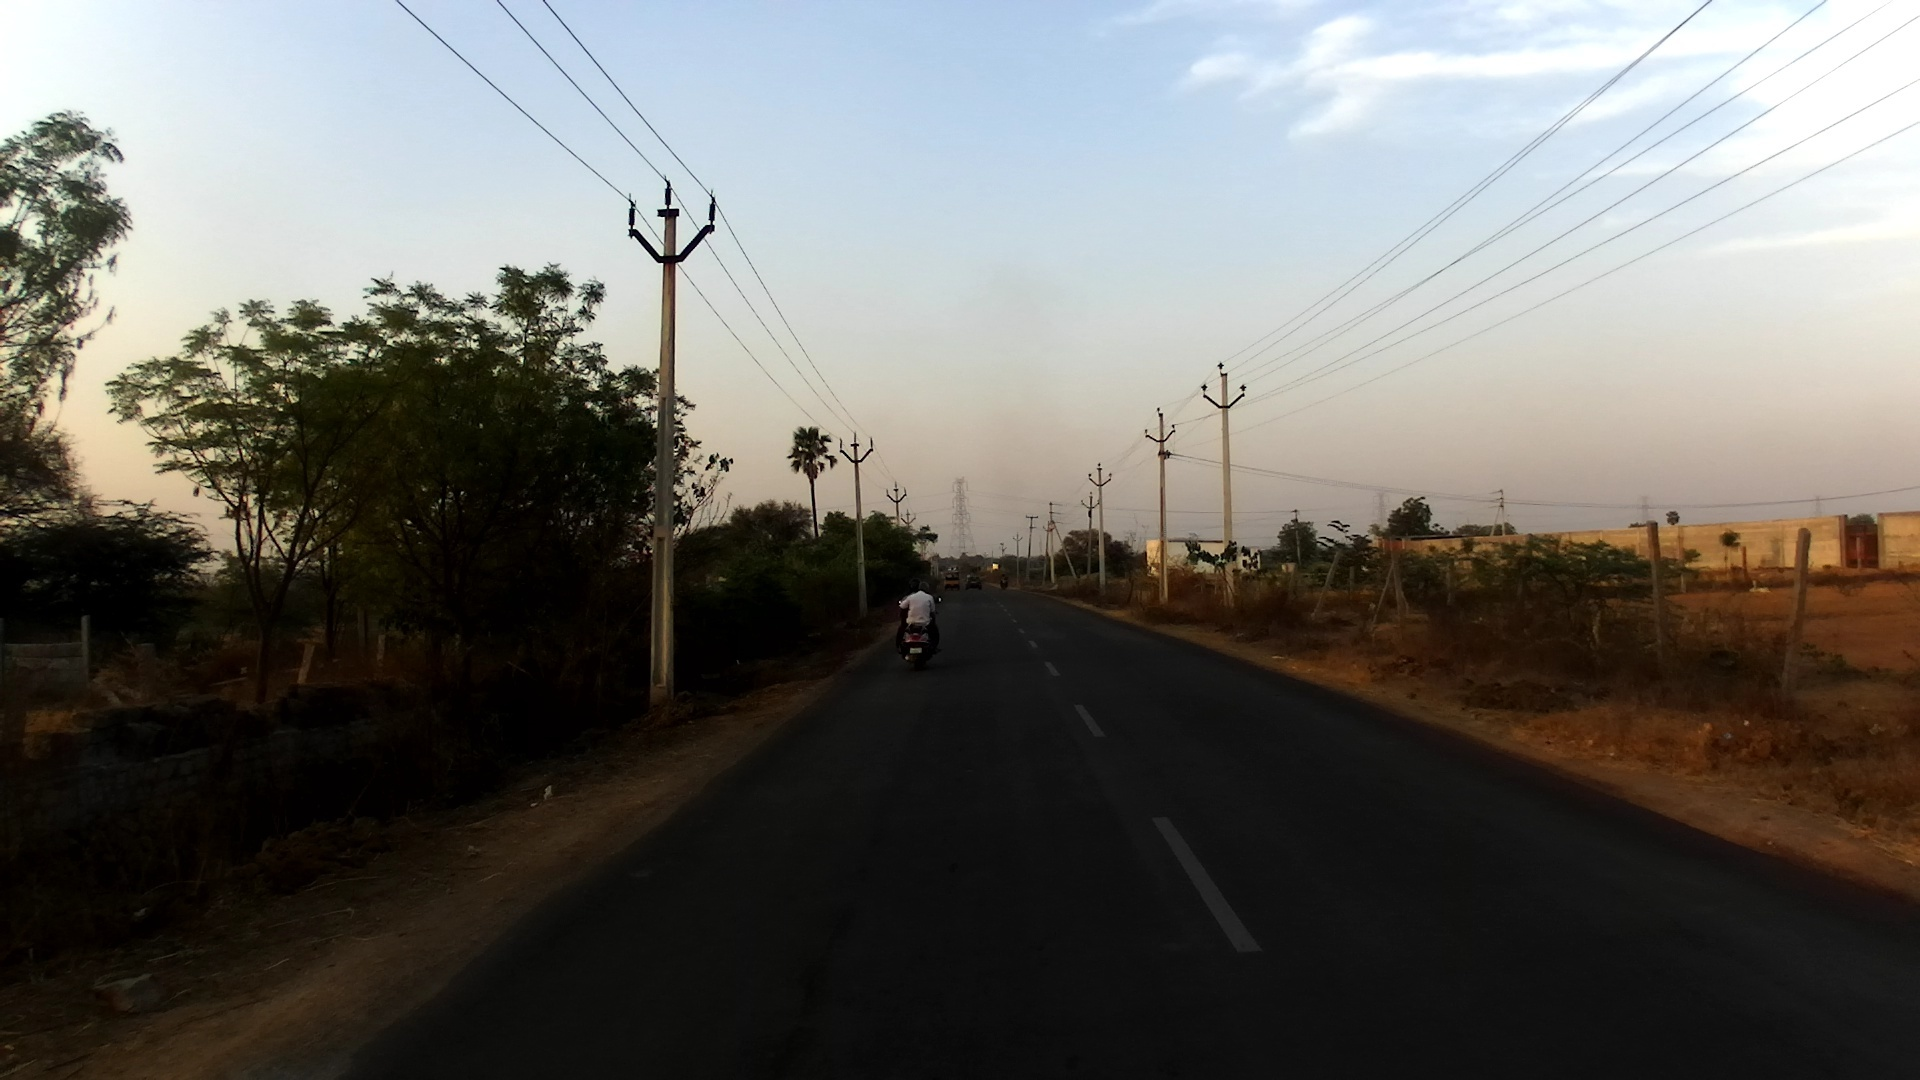autorickshaw: (941, 565, 963, 592)
car: (963, 574, 985, 591)
motorcycle: (894, 593, 945, 675), (999, 578, 1011, 591)
rider: (896, 581, 949, 656), (902, 577, 932, 634), (1000, 571, 1009, 588)
